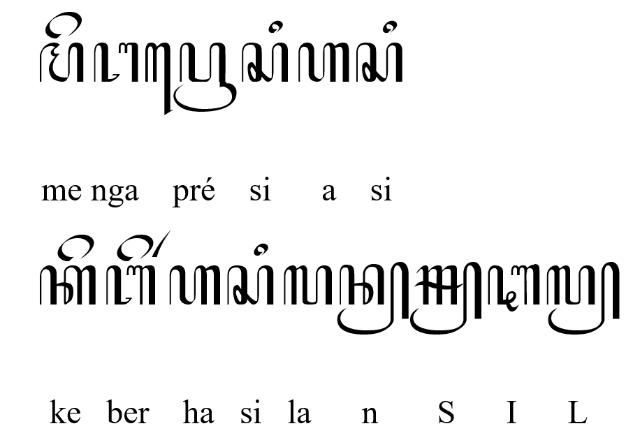-S: (410, 261, 482, 335)
-l: (546, 260, 620, 336)
-n: (336, 261, 409, 335)
I: (488, 264, 540, 312)
_r1: (151, 228, 173, 258)
b: (106, 264, 156, 306)
e: (44, 10, 84, 40), (57, 232, 95, 262), (116, 234, 154, 262)
e1: (144, 41, 172, 116)
h: (297, 41, 351, 83), (169, 264, 221, 306)
i: (268, 20, 284, 36), (382, 20, 398, 34), (254, 243, 268, 257)
k: (39, 264, 97, 306)
l: (283, 264, 333, 306)
m: (39, 41, 85, 82)
nga: (92, 41, 140, 83)
pr: (173, 41, 237, 112)
s: (240, 42, 290, 84), (226, 264, 274, 306), (355, 41, 403, 82)
